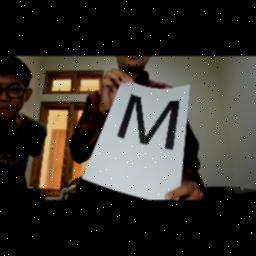m: (118, 90, 178, 152)
